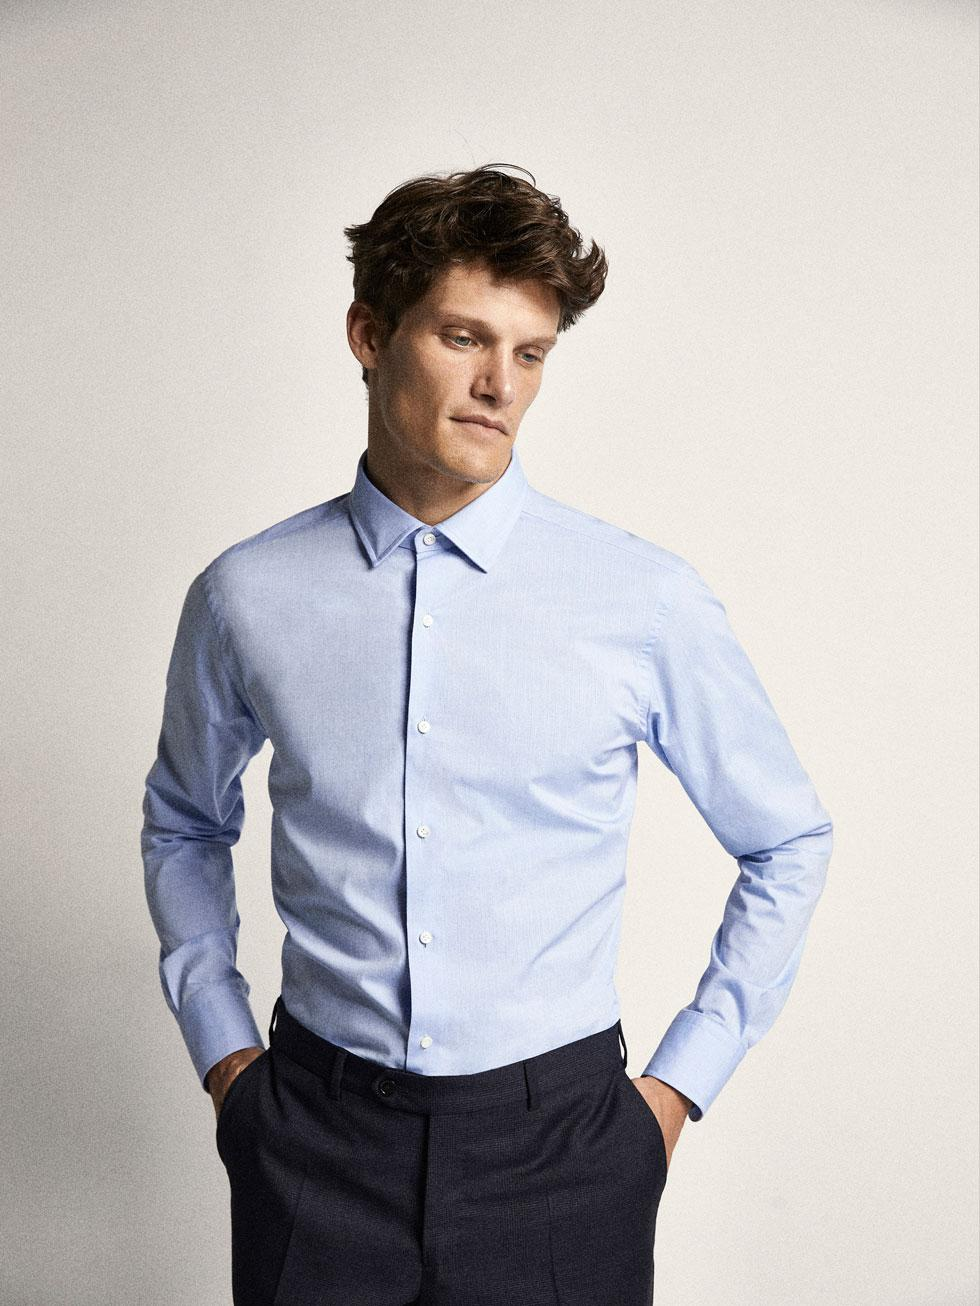teeshirt: (135, 495, 847, 1085)
